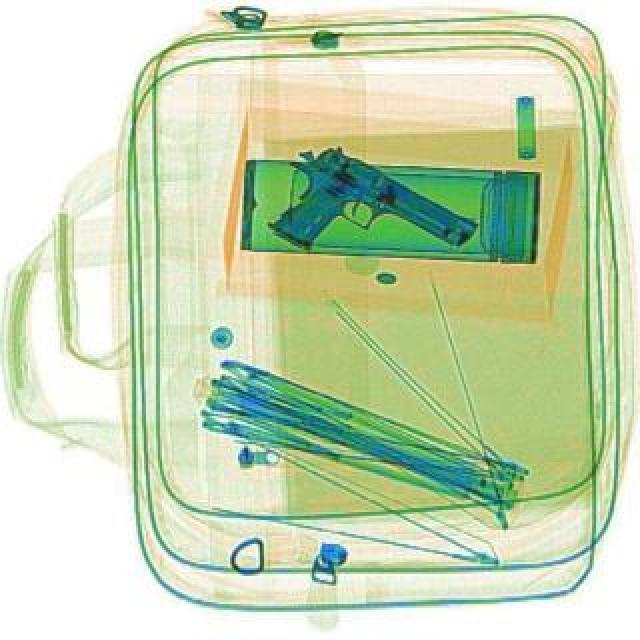gun: (256, 134, 486, 318)
